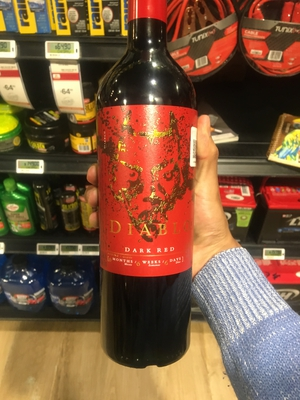diablo dark red: (91, 25, 206, 353)
